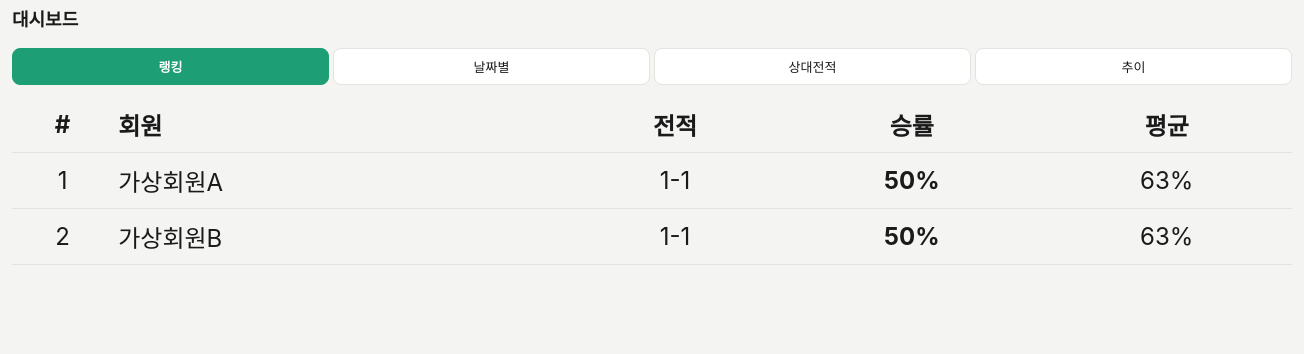
Test: DashboardTab — 상대전적 카드에 날짜 표시 › 상대전적 탭의 각 결과 카드 첫째 줄에 소속 모임 날짜가 보인다
The image size is (1304, 354).
Click the button "상대전적" at (812, 66), box [654,48,971,85]
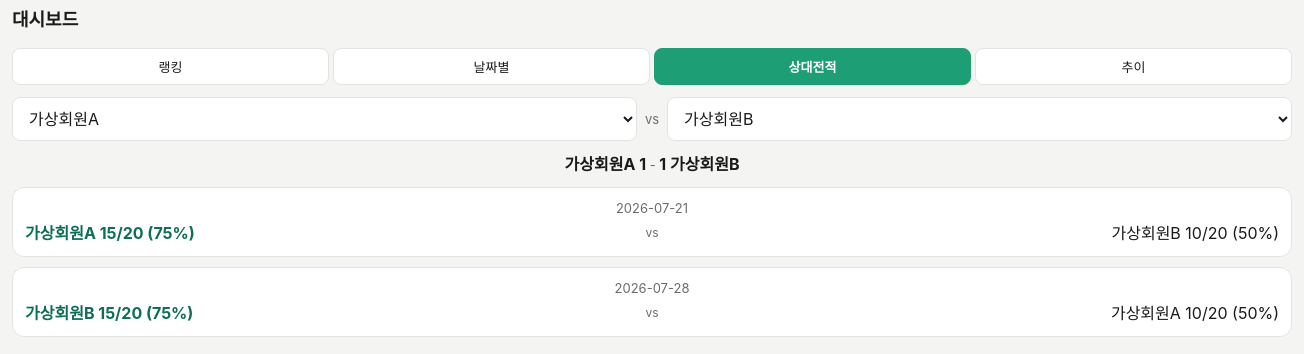
Check: the text "2026-07-21" is shown, box [616,200,688,216]
Check: the text "2026-07-28" is shown, box [614,280,689,296]
